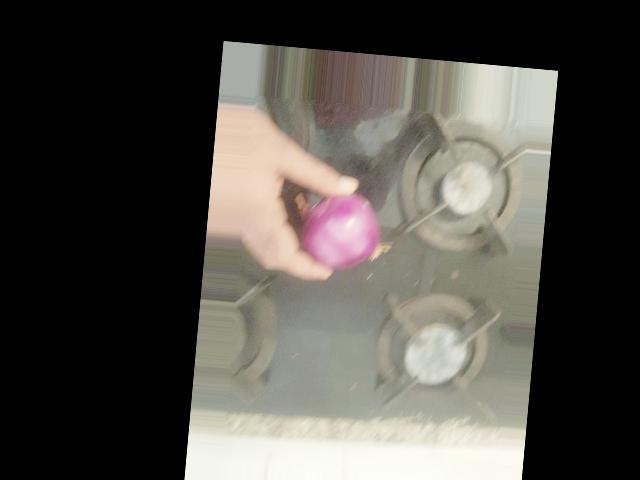onion: (293, 183, 386, 273)
